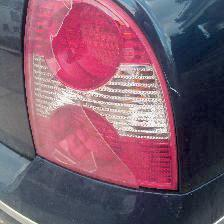tail_lamp: (44, 2, 193, 202)
